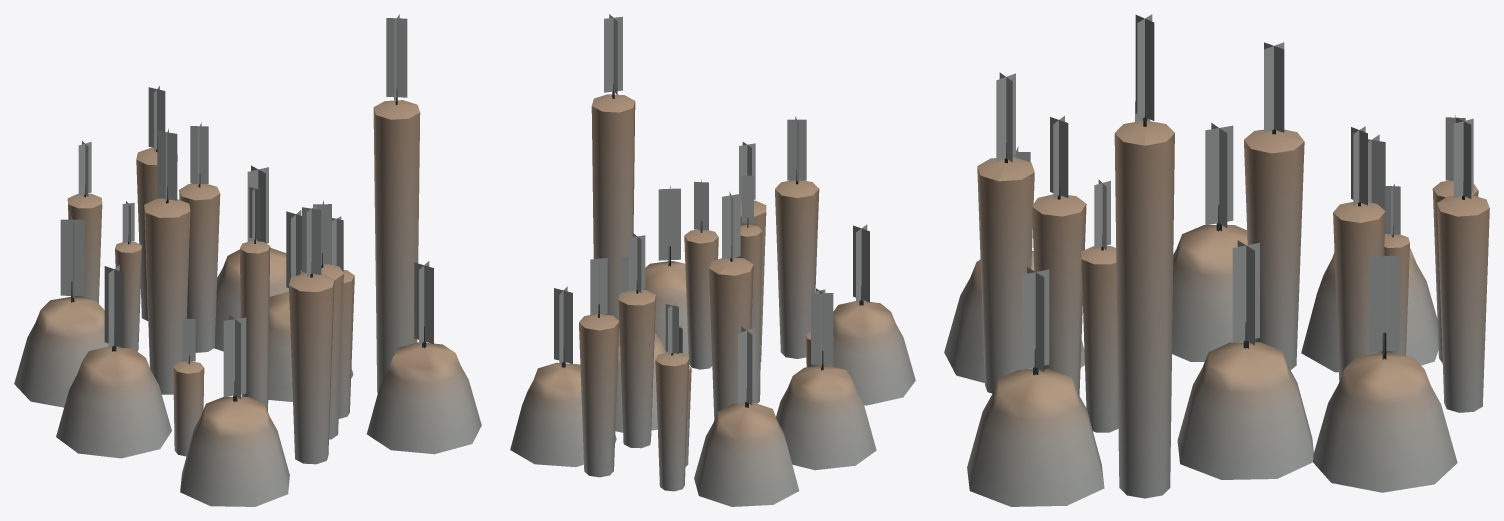
3 renders of one model, left to right at view 1: azimuth 30°, elevation 25°; view 2: azimuth 150°, elevation 25°; view 3: azimuth 270°, elevation 25°, orthographic. The views are drawn at different scales.
Parts seen in each view (by area): view 1: G:\FFXIV-MapTools\exports\r2f1\bg\ex1\01_roc_r2\fld\r2f1\bgp (×2); view 2: G:\FFXIV-MapTools\exports\r2f1\bg\ex1\01_roc_r2\fld\r2f1\bgp (×2); view 3: G:\FFXIV-MapTools\exports\r2f1\bg\ex1\01_roc_r2\fld\r2f1\bgp (×2).
Boxes of the visible parts, bbox=[...] form: G:\FFXIV-MapTools\exports\r2f1\bg\ex1\01_roc_r2\fld\r2f1\bgp (×2): bbox=[14, 14, 481, 506]; G:\FFXIV-MapTools\exports\r2f1\bg\ex1\01_roc_r2\fld\r2f1\bgp (×2): bbox=[510, 14, 915, 506]; G:\FFXIV-MapTools\exports\r2f1\bg\ex1\01_roc_r2\fld\r2f1\bgp (×2): bbox=[944, 14, 1489, 506].
Bounding box in the file's own units: 0.7783 × 0.843 × 0.8887.
